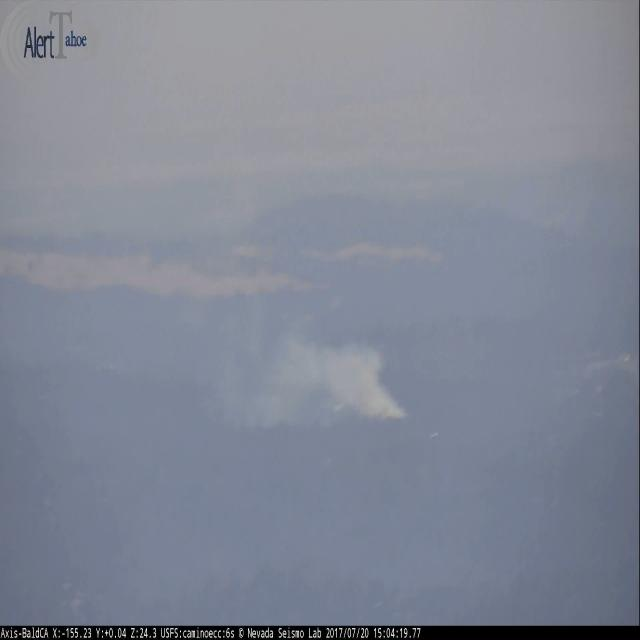smoke: (201, 313, 413, 421)
